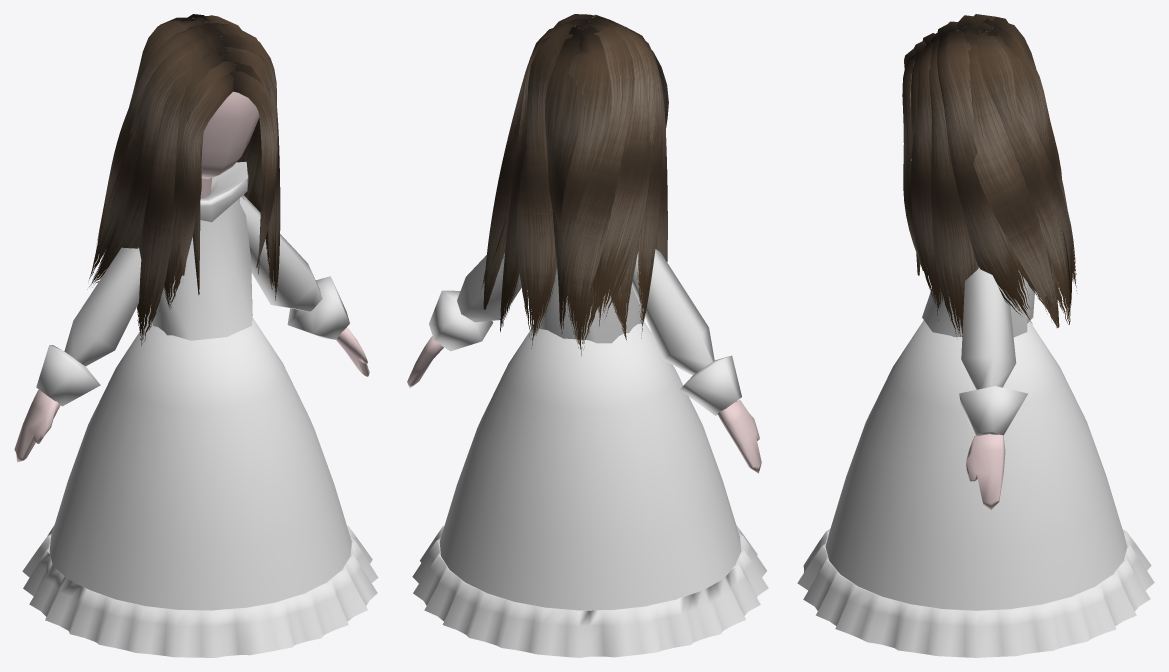
File: fantasma_nena_lowpoly_version_peloterminado (1).fbx
The picture shows the model from 3 angles, left to right: view 1: azimuth 30°, elevation 25°; view 2: azimuth 150°, elevation 25°; view 3: azimuth 270°, elevation 25°; orthographic projection.
Parts seen in each view (by area): view 1: pollera, brazos, cuepo, Plane.006, Plane.010, Plane.003, cara, Plane.012, Plane.002, Plane.007, Plane.014, brazos.001 (+8 smaller); view 2: pollera, brazos, Plane.015, Plane.017, Plane.014, Plane.018, Plane.019, Plane.013, Plane.010, cuepo, Plane.016, Plane.012 (+3 smaller); view 3: pollera, Plane.013, brazos, Plane.009, Plane.008, Plane.016, Plane.005, Plane.017, brazos.002, Plane.019, cuepo, Plane.011 (+3 smaller).
Part boxes in pixels (x1=…): pollera: x1=22, y1=317, x2=378, y2=657; brazos: x1=36, y1=196, x2=349, y2=406; cuepo: x1=147, y1=161, x2=252, y2=340; Plane.006: x1=137, y1=46, x2=228, y2=345; Plane.010: x1=87, y1=37, x2=223, y2=289; Plane.003: x1=178, y1=73, x2=234, y2=275; cara: x1=201, y1=91, x2=259, y2=178; Plane.012: x1=89, y1=28, x2=222, y2=279; Plane.002: x1=229, y1=70, x2=277, y2=267; Plane.007: x1=164, y1=54, x2=223, y2=309; Plane.014: x1=96, y1=23, x2=213, y2=250; brazos.001: x1=14, y1=390, x2=60, y2=462; pollera: x1=412, y1=320, x2=768, y2=657; brazos: x1=429, y1=249, x2=741, y2=415; Plane.015: x1=566, y1=24, x2=634, y2=355; Plane.017: x1=517, y1=32, x2=580, y2=348; Plane.014: x1=588, y1=19, x2=650, y2=326; Plane.018: x1=552, y1=25, x2=614, y2=334; Plane.019: x1=545, y1=27, x2=582, y2=327; Plane.013: x1=483, y1=18, x2=589, y2=309; Plane.010: x1=626, y1=27, x2=663, y2=338; cuepo: x1=536, y1=268, x2=642, y2=343; Plane.016: x1=500, y1=24, x2=580, y2=332; Plane.012: x1=591, y1=14, x2=656, y2=339; pollera: x1=797, y1=320, x2=1154, y2=657; Plane.013: x1=961, y1=25, x2=1059, y2=327; brazos: x1=959, y1=267, x2=1027, y2=435; Plane.009: x1=937, y1=31, x2=1032, y2=323; Plane.008: x1=929, y1=35, x2=978, y2=336; Plane.016: x1=976, y1=21, x2=1070, y2=324; Plane.005: x1=911, y1=41, x2=942, y2=320; Plane.017: x1=995, y1=33, x2=1072, y2=315; brazos.002: x1=966, y1=434, x2=1005, y2=509; Plane.019: x1=987, y1=24, x2=1062, y2=302; cuepo: x1=922, y1=270, x2=1034, y2=337; Plane.011: x1=945, y1=30, x2=1053, y2=322.
Bounding box in the file's own units: 187 × 290 × 167.
3 materials, 1 textured.
